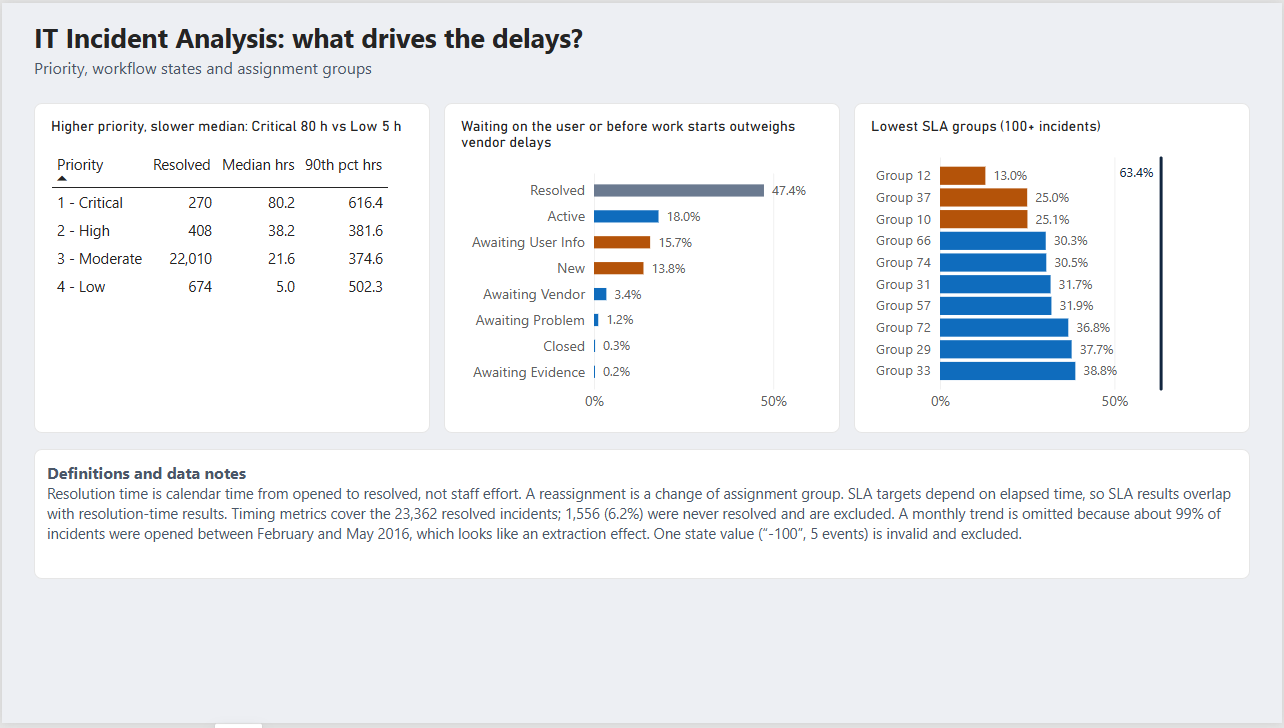

The page's visual inventory and layout, read from the dashboard file:
{"tool":"powerbi","page":{"name":"Driver","canvas":[1280,720],"ordinal":1},"visuals":[{"type":"tableEx","title":"Higher priority, slower median: Critical 80 h vs Low 5 h","fields":{"Values":["public incident_facts.priority","public incident_facts.Resolved Incidents","public incident_facts.Median Resolution Hrs","public incident_facts.P90 Resolution Hrs"]},"box":[32,100,396,330],"z":0},{"type":"clusteredBarChart","title":"Waiting on the user or before work starts outweighs vendor delays","fields":{"Category":["public state_durations.incident_state"],"Y":["public state_durations.Share of All Time"]},"box":[442,100.2,396,330],"z":1000},{"type":"clusteredBarChart","title":"Lowest SLA groups (100+ incidents)","fields":{"Category":["public incident_facts.assignment_group"],"Y":["public incident_facts.SLA Met % (all)"]},"box":[852,100.2,396,330],"z":2000},{"type":"textbox","box":[32,446,1216,130],"z":3000},{"type":"textbox","box":[32,54,1000,26],"z":5000},{"type":"textbox","box":[32,16,900,40],"z":5001}]}

Visuals, with their boxes in screenshot pixels (x1, y1, x2, y2), scaled from the page's 1280x720 canvas onto the 1284x728 screenshot:
"Higher priority, slower median: Critical 80 h vs Low 5 h" tableEx: bbox=(32, 101, 429, 435)
"Waiting on the user or before work starts outweighs vendor delays" clusteredBarChart: bbox=(443, 101, 841, 435)
"Lowest SLA groups (100+ incidents)" clusteredBarChart: bbox=(855, 101, 1252, 435)
textbox: bbox=(32, 451, 1252, 582)
textbox: bbox=(32, 55, 1035, 81)
textbox: bbox=(32, 16, 935, 57)
